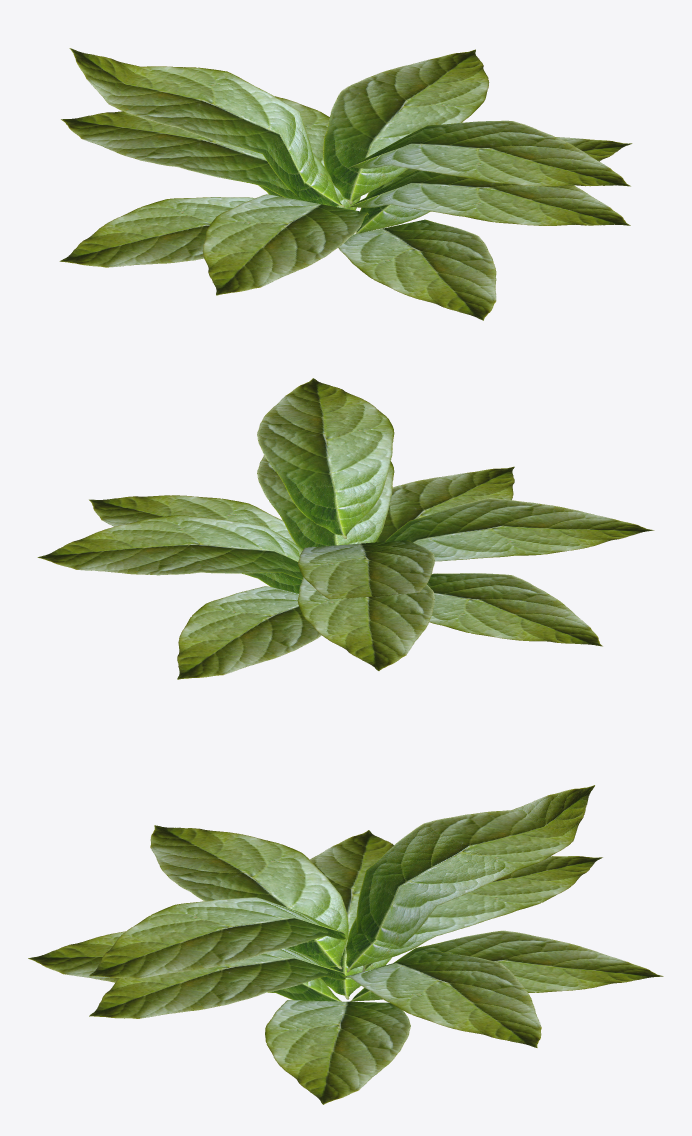
The model's file is Grass_Bush.fbx.
3 renders of one model, top to bottom at view 1: azimuth 30°, elevation 25°; view 2: azimuth 150°, elevation 25°; view 3: azimuth 270°, elevation 25°, orthographic. The views are drawn at different scales.
Parts seen in each view (by area): view 1: Leaf05, Leaf09, Leaf06, Leaf10, Leaf02, Leaf04, Leaf03, Leaf08, Leaf07, Leaf01; view 2: Leaf06, Leaf09, Leaf10, Leaf01, Leaf08, Leaf03, Leaf05, Leaf07, Leaf02, Leaf04; view 3: Leaf05, Leaf10, Leaf06, Leaf07, Leaf09, Leaf04, Leaf01, Leaf03, Leaf08, Leaf02.
Boxes of the visible parts, left/top/right/bottom form: Leaf05: left=69, top=48, right=315, bottom=195; Leaf09: left=323, top=49, right=489, bottom=204; Leaf06: left=347, top=120, right=630, bottom=186; Leaf10: left=202, top=194, right=368, bottom=295; Leaf02: left=338, top=219, right=496, bottom=320; Leaf04: left=347, top=170, right=630, bottom=225; Leaf03: left=61, top=111, right=344, bottom=207; Leaf08: left=59, top=197, right=254, bottom=267; Leaf07: left=355, top=137, right=632, bottom=233; Leaf01: left=258, top=96, right=360, bottom=210; Leaf06: left=257, top=378, right=394, bottom=538; Leaf09: left=37, top=515, right=303, bottom=579; Leaf10: left=385, top=498, right=654, bottom=561; Leaf01: left=177, top=586, right=321, bottom=679; Leaf08: left=427, top=573, right=602, bottom=646; Leaf03: left=297, top=577, right=434, bottom=670; Leaf05: left=298, top=540, right=434, bottom=599; Leaf07: left=89, top=495, right=301, bottom=593; Leaf02: left=376, top=466, right=514, bottom=542; Leaf04: left=257, top=455, right=394, bottom=548; Leaf05: left=356, top=785, right=594, bottom=971; Leaf10: left=150, top=825, right=348, bottom=969; Leaf06: left=89, top=897, right=345, bottom=978; Leaf07: left=265, top=1000, right=410, bottom=1104; Leaf09: left=343, top=950, right=541, bottom=1047; Leaf04: left=89, top=948, right=345, bottom=1018; Leaf01: left=350, top=930, right=663, bottom=1001; Leaf03: left=346, top=856, right=602, bottom=972; Leaf08: left=310, top=830, right=393, bottom=999; Leaf02: left=28, top=931, right=341, bottom=1001.
Size of the model in its own units: 75.86 by 19.93 by 74.28.
